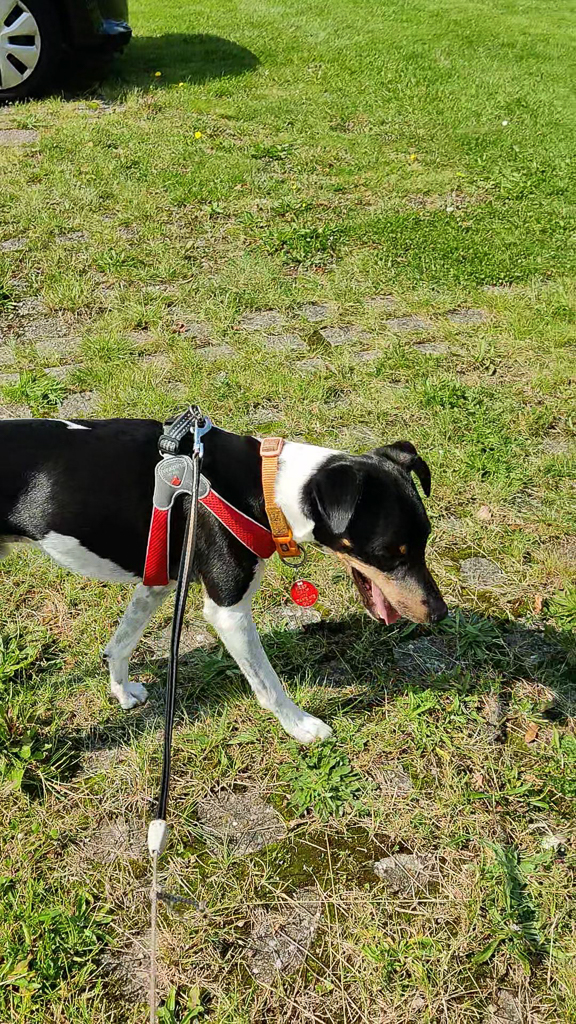Dog: (0, 381, 469, 780)
